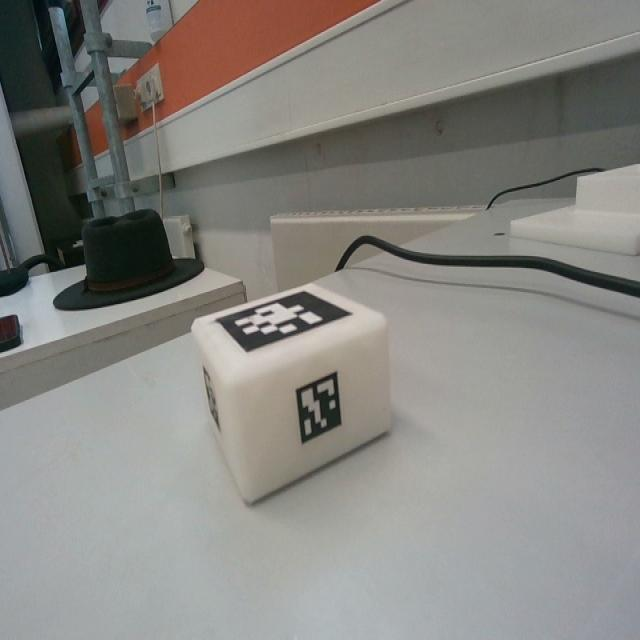Cube: (192, 276, 392, 507)
